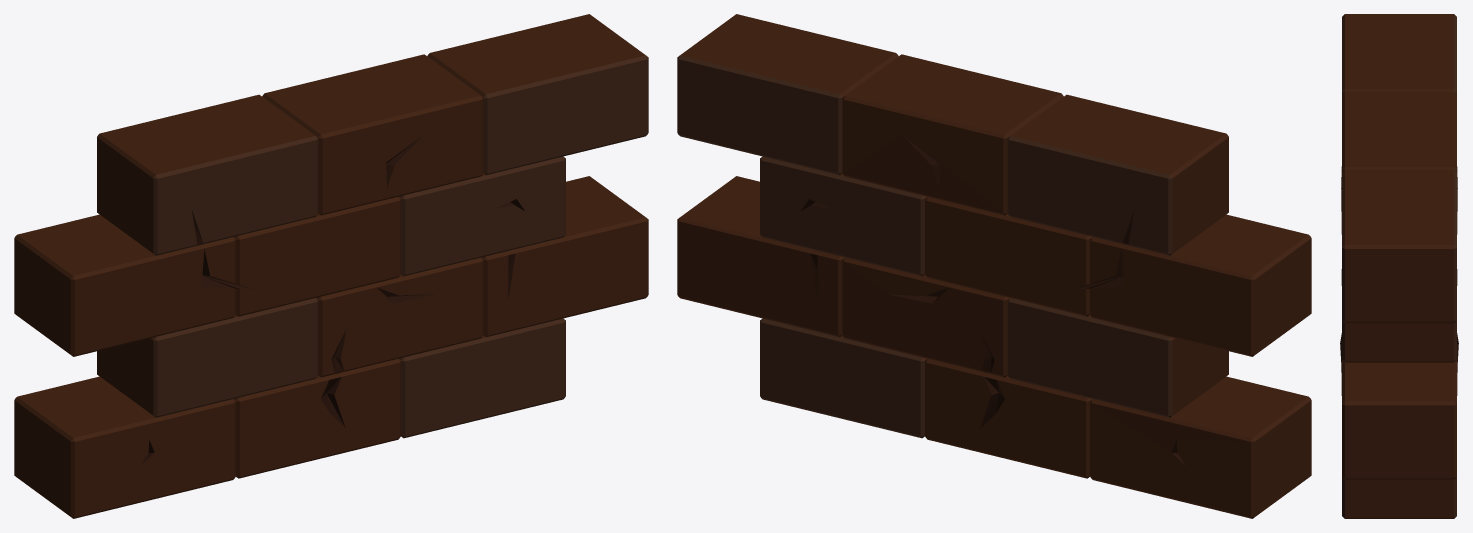
The model's file is Wall.fbx.
3 renders of one model, left to right at view 1: azimuth 30°, elevation 25°; view 2: azimuth 150°, elevation 25°; view 3: azimuth 270°, elevation 25°, orthographic. The views are drawn at different scales.
Visible parts, largest first — view 1: Wall Asset; view 2: Wall Asset; view 3: Wall Asset.
Boxes of the visible parts, x1,y1,x2,y2 form: Wall Asset: (14, 14, 648, 518); Wall Asset: (677, 14, 1311, 518); Wall Asset: (1340, 14, 1458, 518).
Size of the model in its own units: 560 by 300 by 103.
